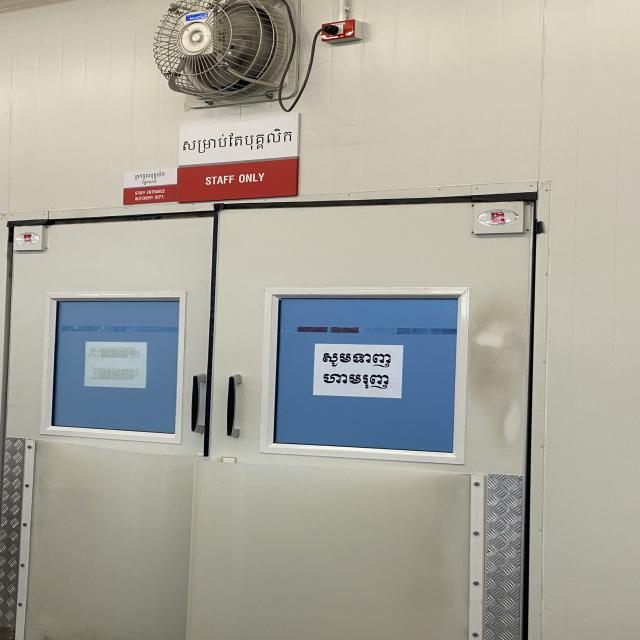Yolov11kh: (179, 123, 298, 161), (312, 340, 399, 370), (317, 370, 401, 389), (132, 170, 167, 180), (139, 179, 160, 186)
